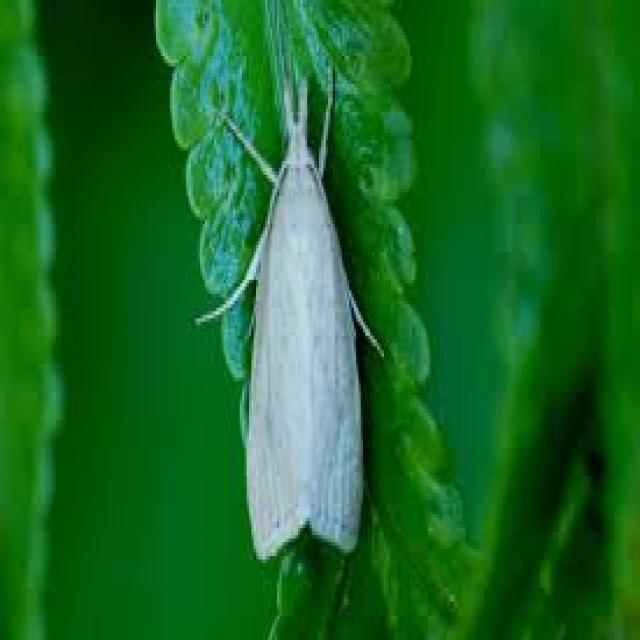yellow-stem-borer: (182, 68, 426, 574)
